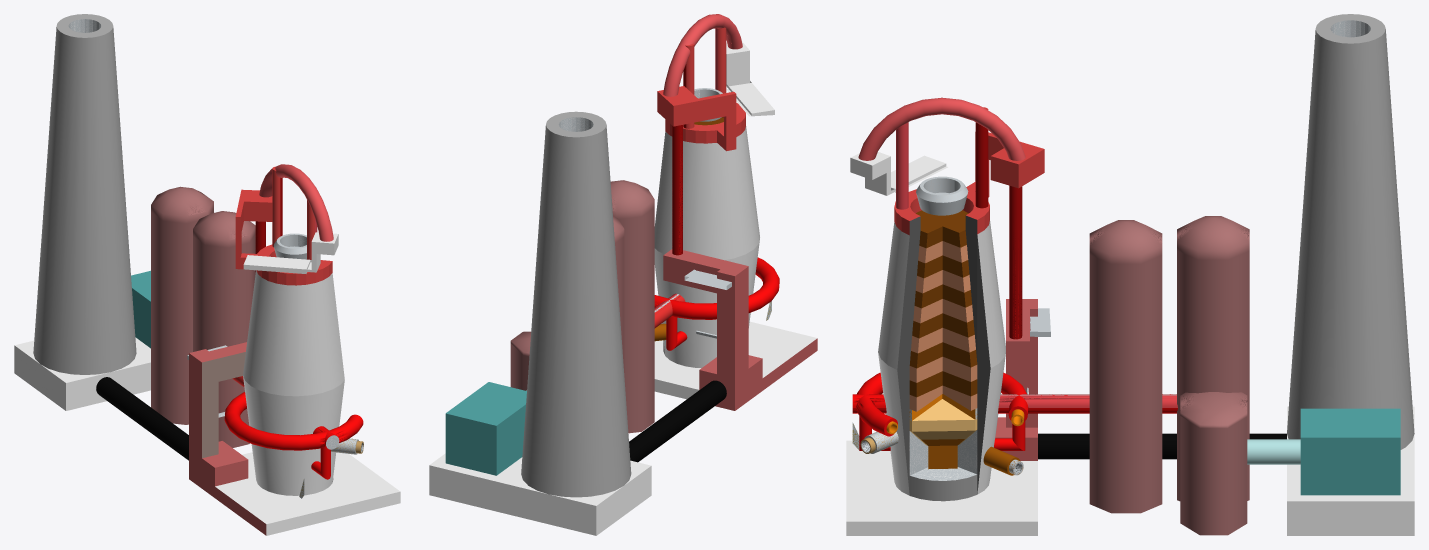
Rendered from Blast Furnace.glb.
3 renders of one model, left to right at view 1: azimuth 30°, elevation 25°; view 2: azimuth 150°, elevation 25°; view 3: azimuth 270°, elevation 25°, orthographic. The views are drawn at different scales.
Parts seen in each view (by area): view 1: SketchUp.085, SketchUp.004, instance_2, instance_1, SketchUp.003, SketchUp, SketchUp.001, SketchUp.084, SketchUp.007, SketchUp.052, SketchUp.083, SketchUp.081 (+4 smaller); view 2: SketchUp.085, SketchUp.004, SketchUp.084, instance_1, SketchUp.001, SketchUp.087, SketchUp.007, SketchUp, SketchUp.003, SketchUp.083, SketchUp.071, SketchUp.052 (+6 smaller); view 3: SketchUp.085, instance_1, instance_2, SketchUp, instance_3, SketchUp.087, SketchUp.084, SketchUp.004, SketchUp.007, SketchUp.071, SketchUp.003, SketchUp.001 (+28 smaller).
Part boxes in pixels (bbox=[...]): SketchUp.085: bbox=[33, 14, 136, 374]; SketchUp.004: bbox=[243, 270, 344, 396]; instance_2: bbox=[151, 186, 213, 424]; instance_1: bbox=[193, 211, 255, 447]; SketchUp.003: bbox=[243, 376, 344, 495]; SketchUp: bbox=[215, 452, 400, 535]; SketchUp.001: bbox=[189, 342, 266, 535]; SketchUp.084: bbox=[14, 337, 150, 410]; SketchUp.007: bbox=[235, 166, 332, 285]; SketchUp.052: bbox=[224, 392, 363, 450]; SketchUp.083: bbox=[96, 377, 188, 460]; SketchUp.081: bbox=[202, 352, 245, 458]; SketchUp.085: bbox=[521, 111, 631, 497]; SketchUp.004: bbox=[654, 126, 759, 260]; SketchUp.084: bbox=[429, 453, 651, 535]; instance_1: bbox=[610, 180, 654, 433]; SketchUp.001: bbox=[663, 249, 817, 410]; SketchUp.087: bbox=[445, 382, 526, 475]; SketchUp.007: bbox=[657, 27, 745, 151]; SketchUp: bbox=[654, 321, 817, 399]; SketchUp.003: bbox=[654, 239, 759, 368]; SketchUp.083: bbox=[629, 380, 726, 462]; SketchUp.071: bbox=[663, 14, 742, 96]; SketchUp.052: bbox=[654, 257, 779, 319]; SketchUp.085: bbox=[1287, 14, 1414, 449]; instance_1: bbox=[1089, 220, 1162, 513]; instance_2: bbox=[1177, 216, 1249, 501]; SketchUp: bbox=[846, 440, 1037, 535]; instance_3: bbox=[1180, 392, 1247, 535]; SketchUp.087: bbox=[1300, 408, 1400, 495]; SketchUp.084: bbox=[1287, 406, 1414, 535]; SketchUp.004: bbox=[878, 221, 1005, 369]; SketchUp.007: bbox=[894, 107, 1044, 235]; SketchUp.071: bbox=[858, 97, 1025, 160]; SketchUp.003: bbox=[878, 352, 1005, 495]; SketchUp.001: bbox=[995, 299, 1037, 460].
Size of the model in its own units: 0.9109 by 1.98 by 2.31.
